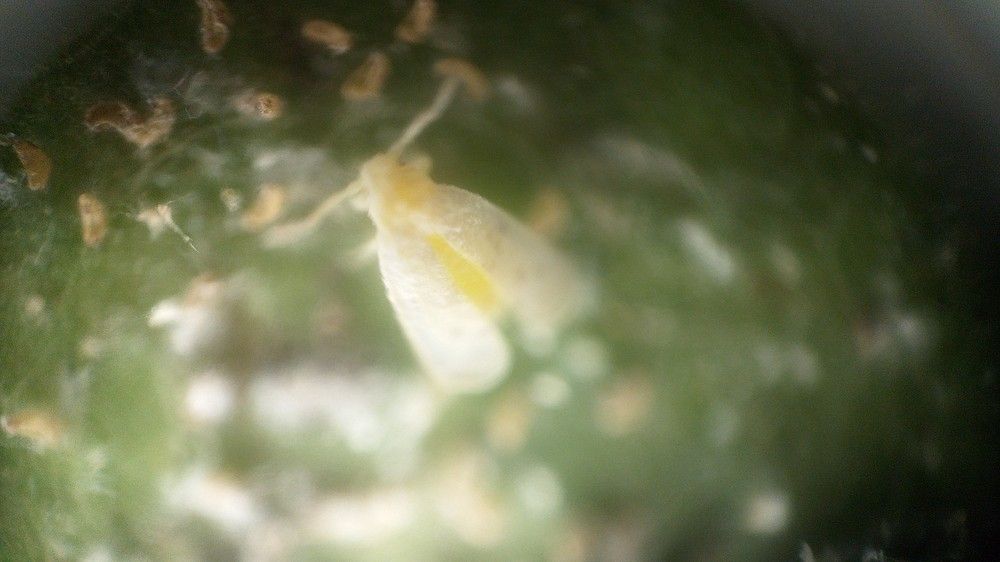Mosca Blanca: (248, 76, 618, 427)
